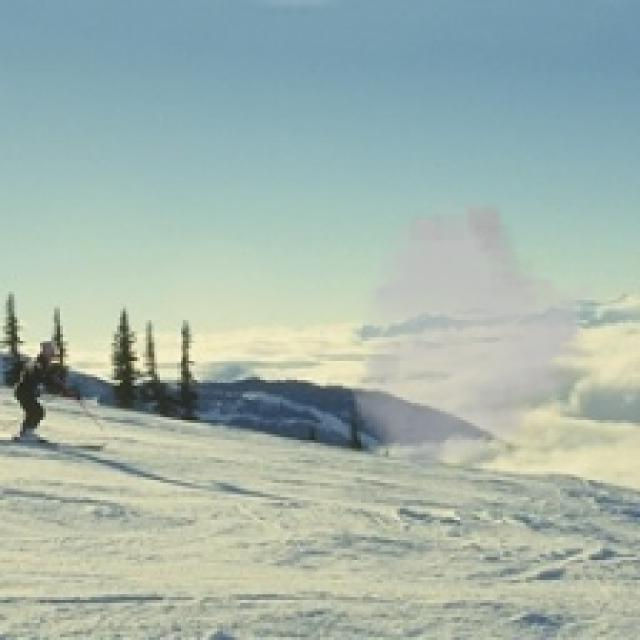smoke: (349, 197, 597, 472)
